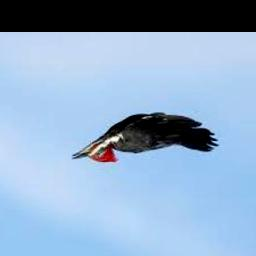Woodpecker: (73, 114, 221, 163)
